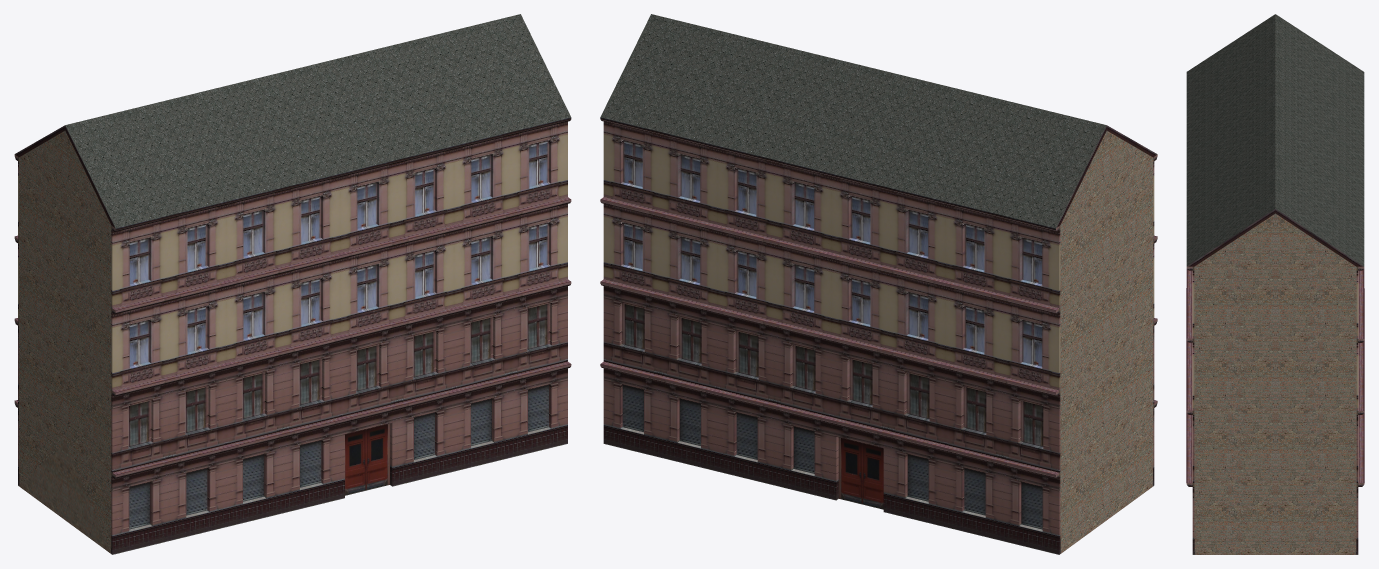
The model's file is PBP1_Building3_2sided.fbx.
3 renders of one model, left to right at view 1: azimuth 30°, elevation 25°; view 2: azimuth 150°, elevation 25°; view 3: azimuth 270°, elevation 25°, orthographic. The views are drawn at different scales.
Visible parts, largest first — view 1: PBP1_Building3_2sided; view 2: PBP1_Building3_2sided; view 3: PBP1_Building3_2sided.
Boxes of the visible parts, left/top/right/bottom form: PBP1_Building3_2sided: left=14, top=14, right=571, bottom=554; PBP1_Building3_2sided: left=600, top=14, right=1157, bottom=554; PBP1_Building3_2sided: left=1186, top=14, right=1364, bottom=554.
Bounding box in the file's own units: 751 × 1942 × 1609.
